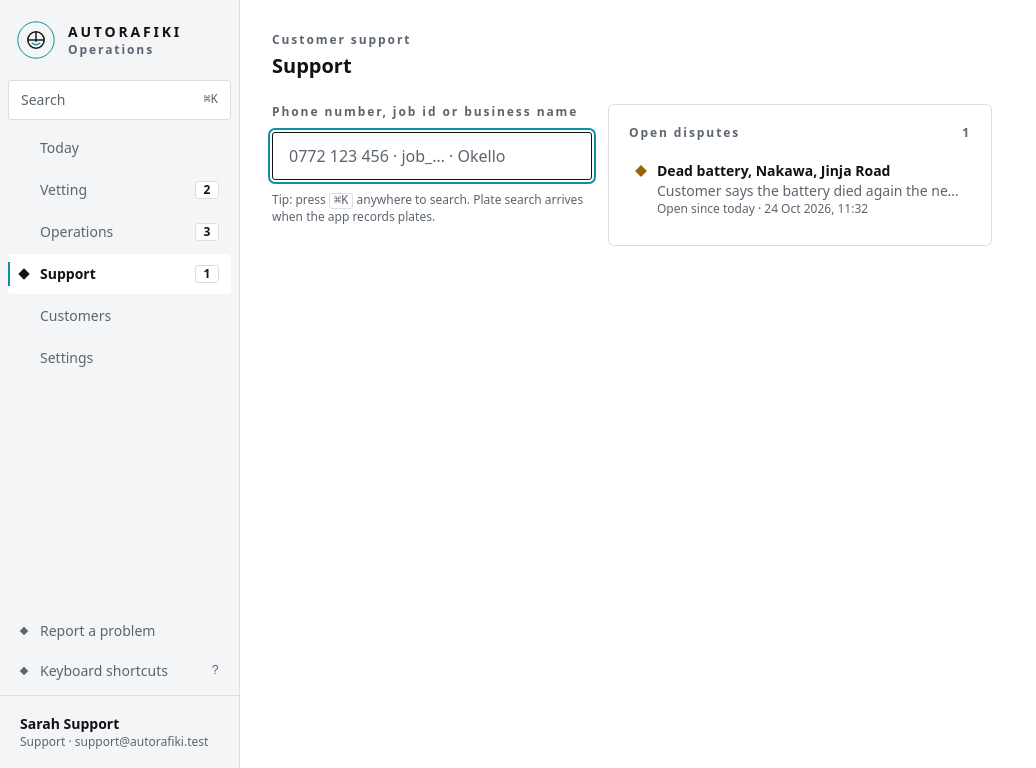
it: support search › finds a mechanic by part of the business name
Type "rescue" into the search field labelled "Phone number, job id or business name".
click(432, 156); type("rescue")  # box x1=272 y1=132 x2=592 y2=180
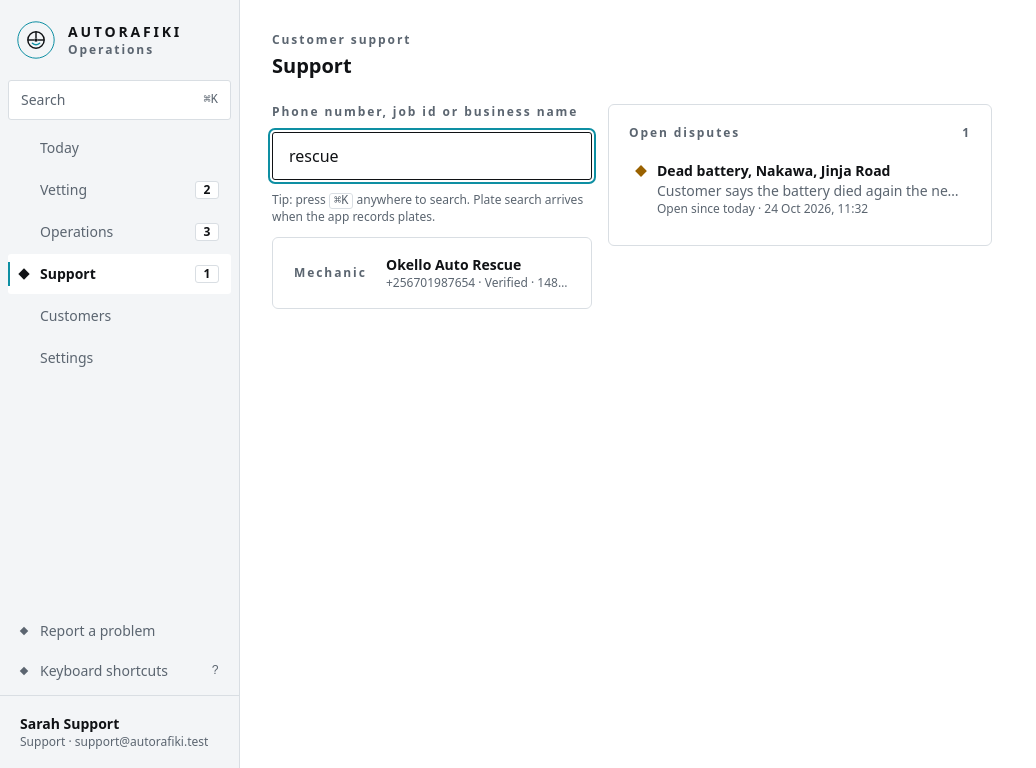
Expected: the option is shown, x1=281 y1=246 x2=583 y2=300
